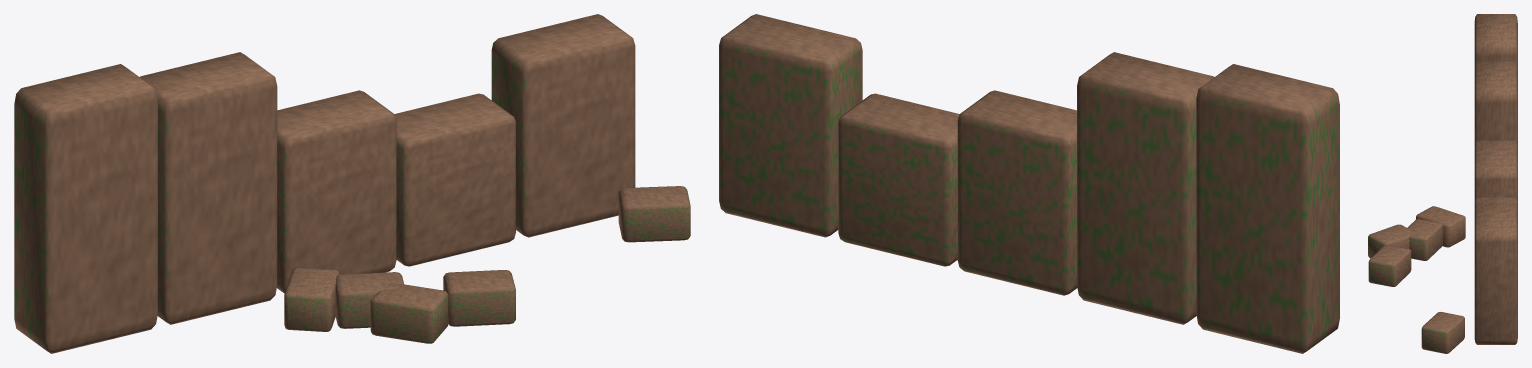
The model's file is prop_reruntuhan.glb.
3 renders of one model, left to right at view 1: azimuth 30°, elevation 25°; view 2: azimuth 150°, elevation 25°; view 3: azimuth 270°, elevation 25°, orthographic. The views are drawn at different scales.
Parts seen in each view (by area): view 1: reruntuhan; view 2: reruntuhan; view 3: reruntuhan.
Part boxes in pixels (<box>): reruntuhan: <box>14,14,690,353</box>; reruntuhan: <box>719,14,1339,353</box>; reruntuhan: <box>1368,14,1517,353</box>.
Size of the model in its own units: 5.17 by 1.95 by 1.73.
Materials: 1 (1 with a texture image).
